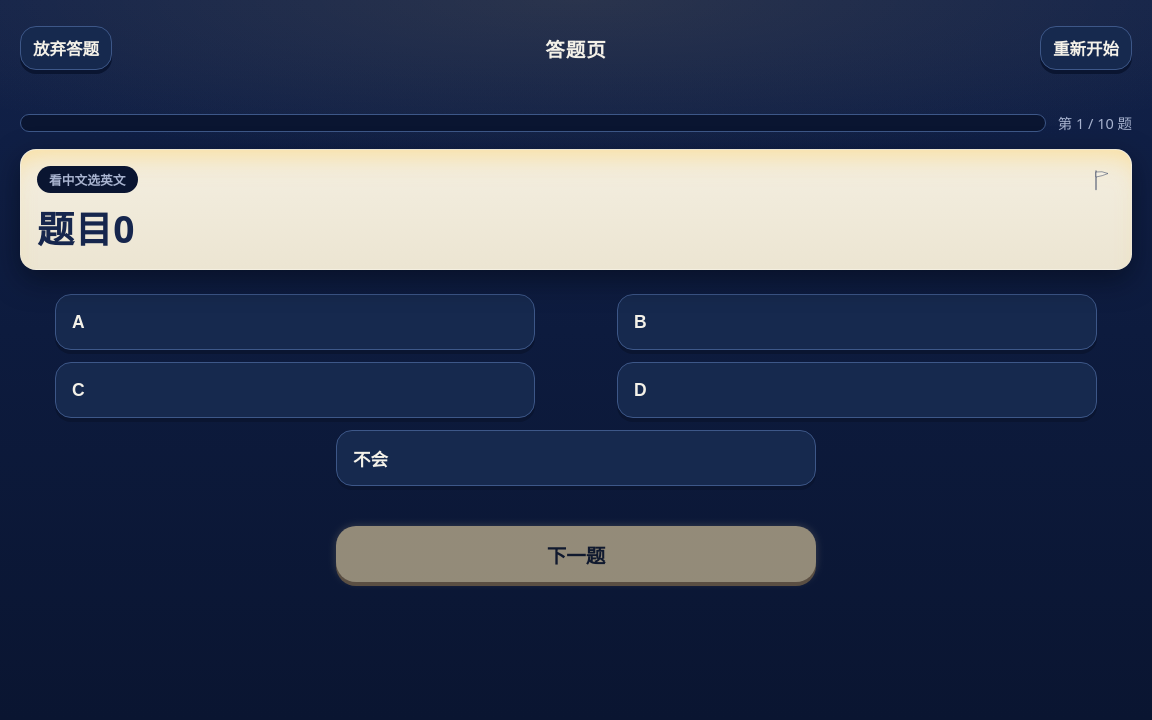
Test: AC5-1 进度文案推进 › 第 1 / 10 题 → 作答后第 2 / 10 题
Click the button with class "star-option" showing "A". click: (78, 322)
box: [55,294,535,350]
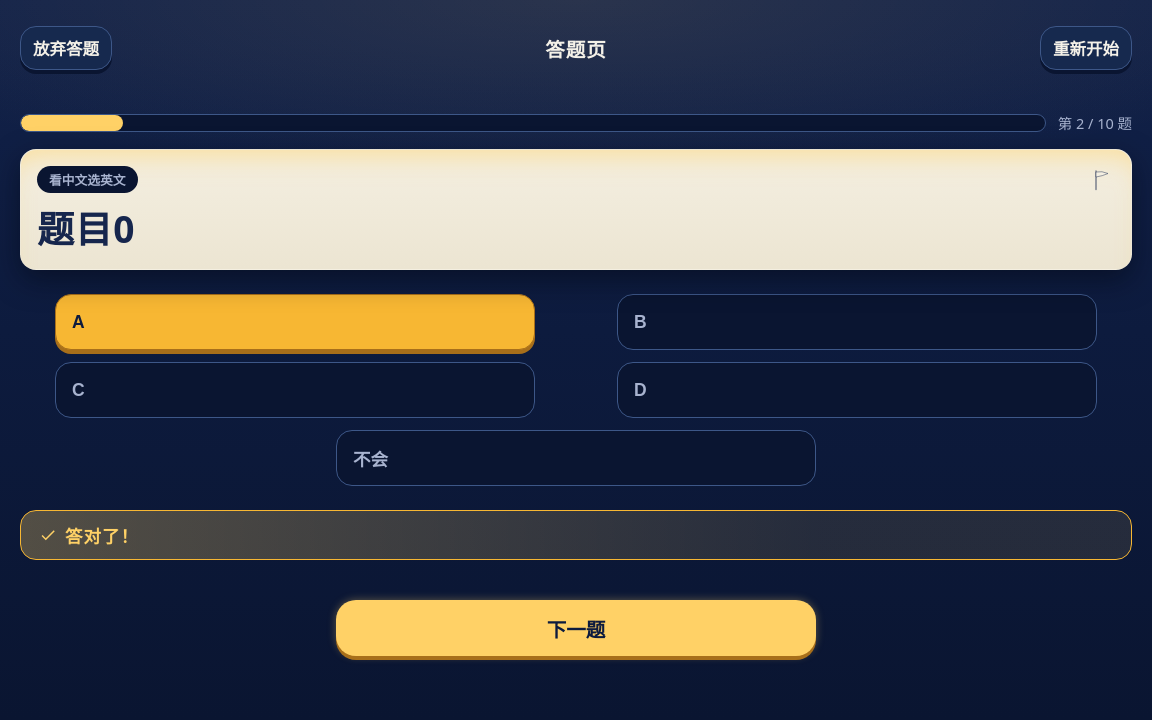
Result: the element showing "放弃答题 答题页 重新开始 第 2 / 10 题 看中文选英文 题目0 A B C D 不会 答对了！ 下一题" is shown
